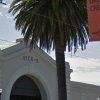Tree: (14, 0, 90, 63)
